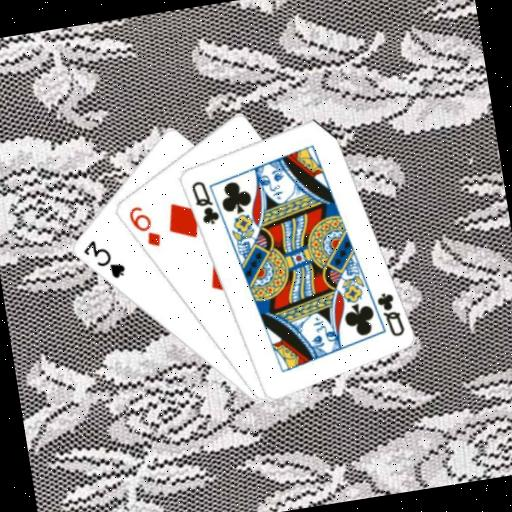3S: (78, 233, 128, 285)
6D: (124, 200, 164, 252)
QC: (187, 175, 222, 229), (372, 287, 406, 341)
